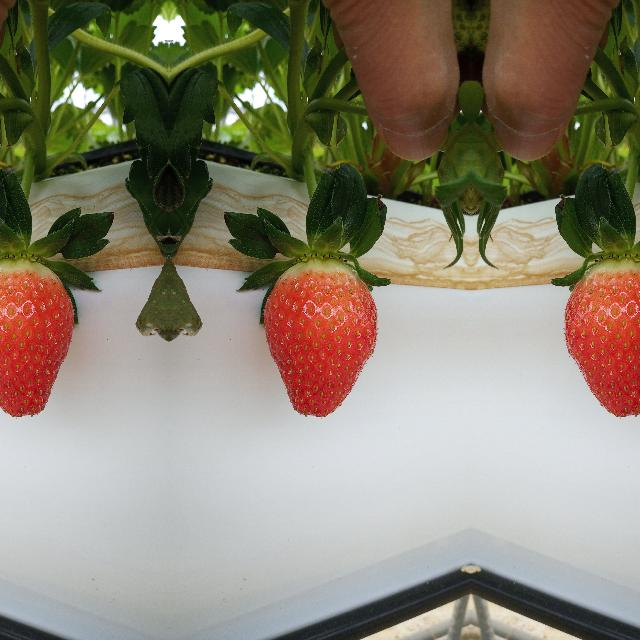Health_100: (260, 257, 378, 418), (563, 257, 640, 418), (0, 257, 75, 418)
